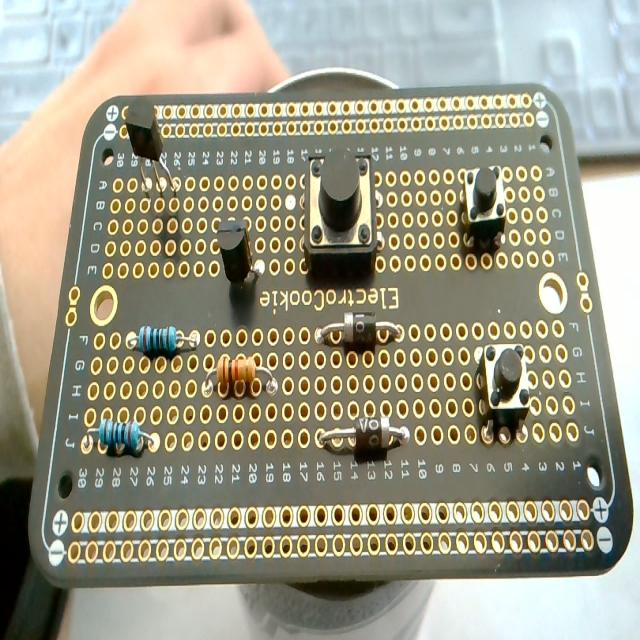diode: (318, 418, 411, 455), (316, 312, 402, 347)
resistor: (202, 358, 280, 398), (86, 419, 156, 458), (125, 325, 198, 357)
switch: (303, 148, 380, 275), (476, 342, 534, 442), (461, 165, 506, 252)
transistor: (122, 96, 178, 203), (214, 218, 267, 286)
